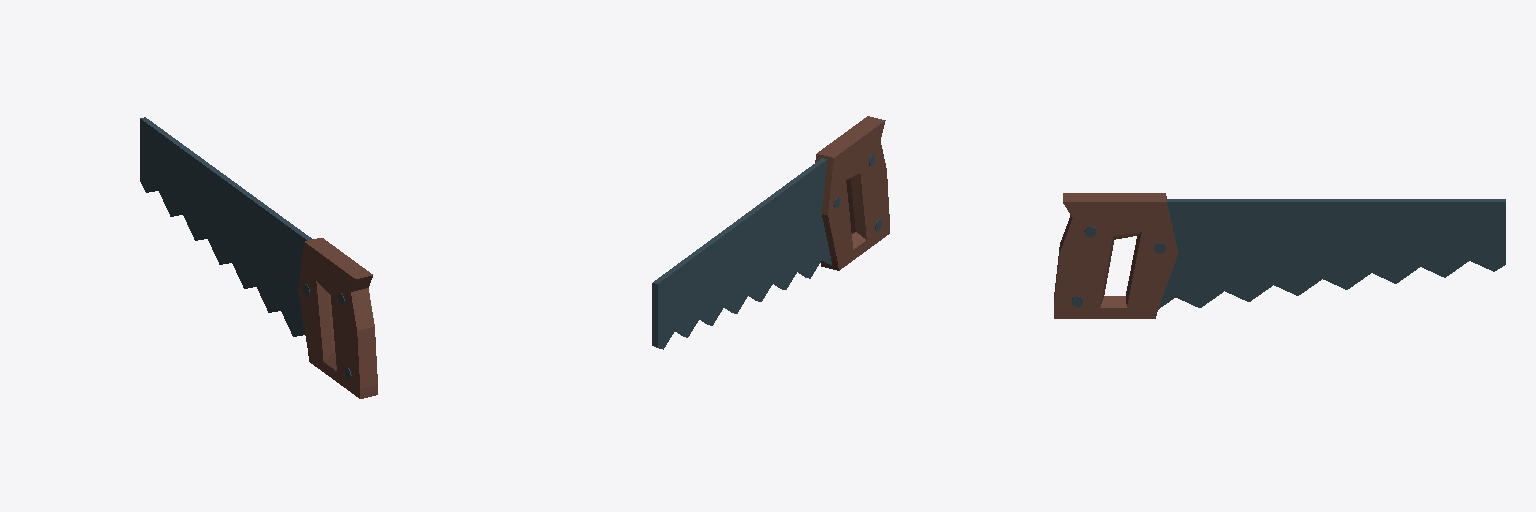
Rendered from Saw_01.obj.
3 views of the same model, side by side, from view 1: azimuth 30°, elevation 25°; view 2: azimuth 150°, elevation 25°; view 3: azimuth 270°, elevation 25° (orthographic).
Parts seen in each view (by area): view 1: Saw_Cube.040; view 2: Saw_Cube.040; view 3: Saw_Cube.040.
Part boxes in pixels (bbox=[...]): Saw_Cube.040: bbox=[140, 117, 377, 398]; Saw_Cube.040: bbox=[652, 116, 889, 349]; Saw_Cube.040: bbox=[1054, 193, 1505, 318].
Size of the model in its own units: 0.927 by 5.33 by 18.77.